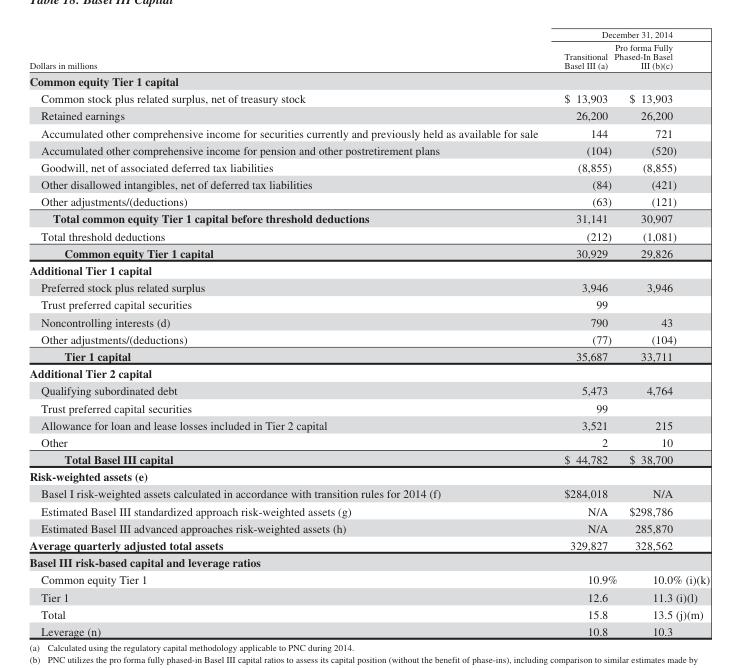table: (28, 28, 709, 637)
table column: (28, 28, 550, 637), (615, 28, 709, 637), (550, 28, 615, 637)
table column header: (28, 28, 709, 71)
table projected row header: (28, 71, 709, 89), (28, 261, 709, 278), (28, 364, 709, 381), (28, 467, 709, 484), (28, 553, 709, 570)
table row: (28, 40, 709, 71), (28, 71, 709, 89), (28, 123, 709, 141), (28, 209, 709, 227), (28, 295, 709, 313), (28, 398, 709, 416), (28, 484, 709, 502), (28, 587, 709, 605), (28, 89, 709, 106), (28, 106, 709, 123), (28, 141, 709, 158), (28, 158, 709, 175), (28, 175, 709, 192), (28, 192, 709, 209), (28, 227, 709, 244), (28, 244, 709, 261), (28, 261, 709, 278), (28, 278, 709, 295), (28, 313, 709, 330), (28, 330, 709, 347), (28, 347, 709, 364), (28, 364, 709, 381), (28, 381, 709, 398), (28, 416, 709, 433), (28, 433, 709, 450), (28, 450, 709, 467), (28, 467, 709, 484), (28, 502, 709, 519), (28, 519, 709, 536), (28, 536, 709, 553), (28, 553, 709, 570), (28, 570, 709, 587), (28, 605, 709, 622), (28, 622, 709, 637), (28, 28, 709, 40)
table spanning cell: (28, 28, 550, 71), (550, 28, 709, 40)
